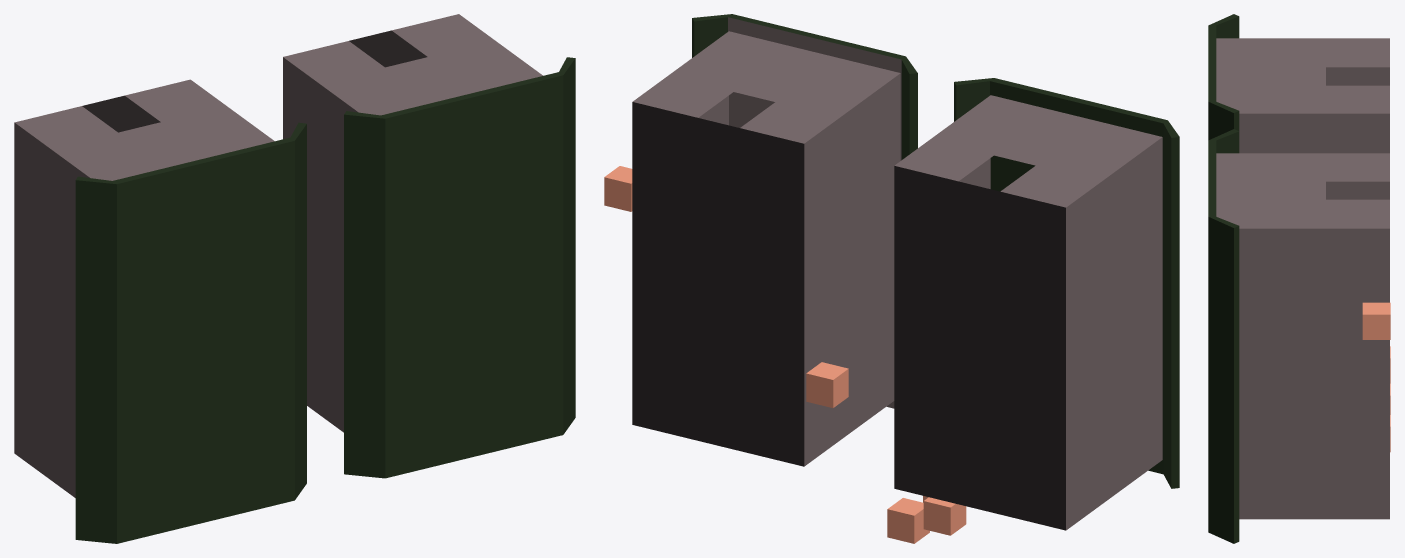
Rendered from Barrack.gltf.
The picture shows the model from 3 angles, left to right: view 1: azimuth 30°, elevation 25°; view 2: azimuth 150°, elevation 25°; view 3: azimuth 270°, elevation 25°; orthographic projection. The views are drawn at different scales.
Visible parts, largest first — view 1: Cube.001; view 2: Cube.001; view 3: Cube.001.
Boxes of the visible parts, bbox=[...] form: Cube.001: bbox=[14, 14, 575, 543]; Cube.001: bbox=[604, 14, 1179, 543]; Cube.001: bbox=[1208, 14, 1390, 543].
Size of the model in its own units: 1.98 by 1.5 by 0.7104.
Materials: 1 (1 with a texture image).
